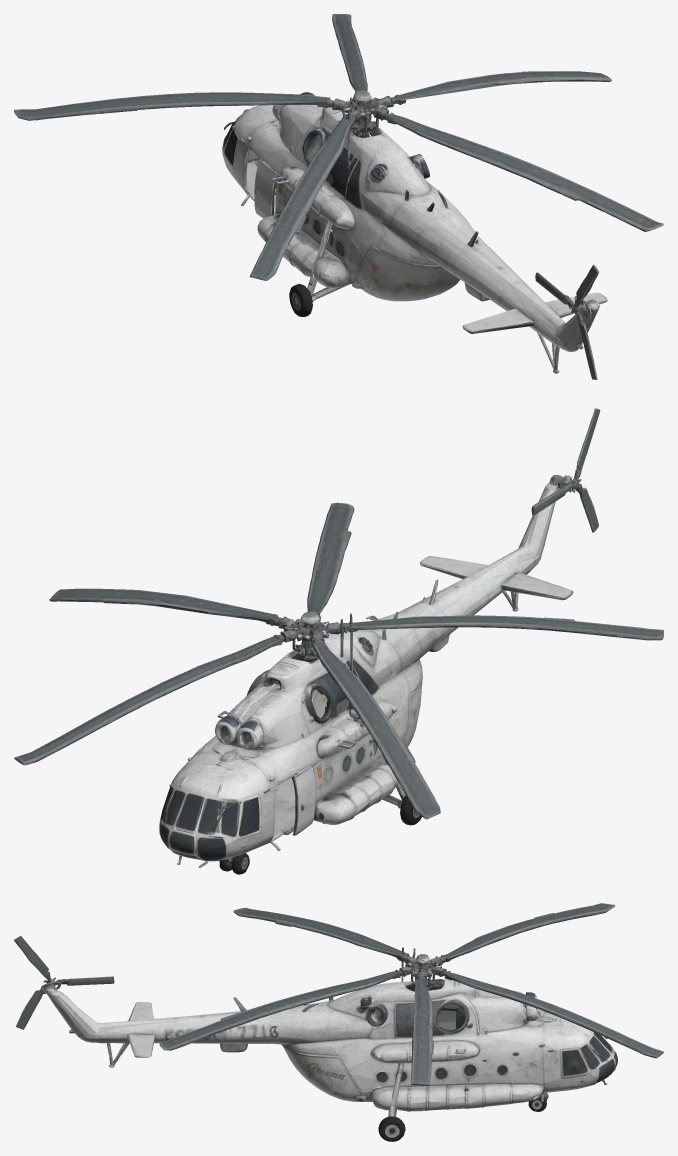
File: mi8_emercom_22k.glb
The picture shows the model from 3 angles, top to bottom: view 1: azimuth 30°, elevation 25°; view 2: azimuth 150°, elevation 25°; view 3: azimuth 270°, elevation 25°; orthographic projection. The views are drawn at different scales.
Parts seen in each view (by area): view 1: fuselage, main_rotor; view 2: fuselage, main_rotor; view 3: fuselage, main_rotor, tail_rotor.
Part boxes in pixels (x1,y1,x2,y2): fuselage: (222, 59, 607, 379); main_rotor: (14, 14, 663, 280); fuselage: (159, 473, 598, 874); main_rotor: (14, 502, 663, 819); fuselage: (16, 962, 617, 1141); main_rotor: (159, 903, 663, 1085); tail_rotor: (14, 936, 50, 978).
Size of the model in its own units: 12.38 by 5.13 by 18.2.
1 material, 1 textured.
